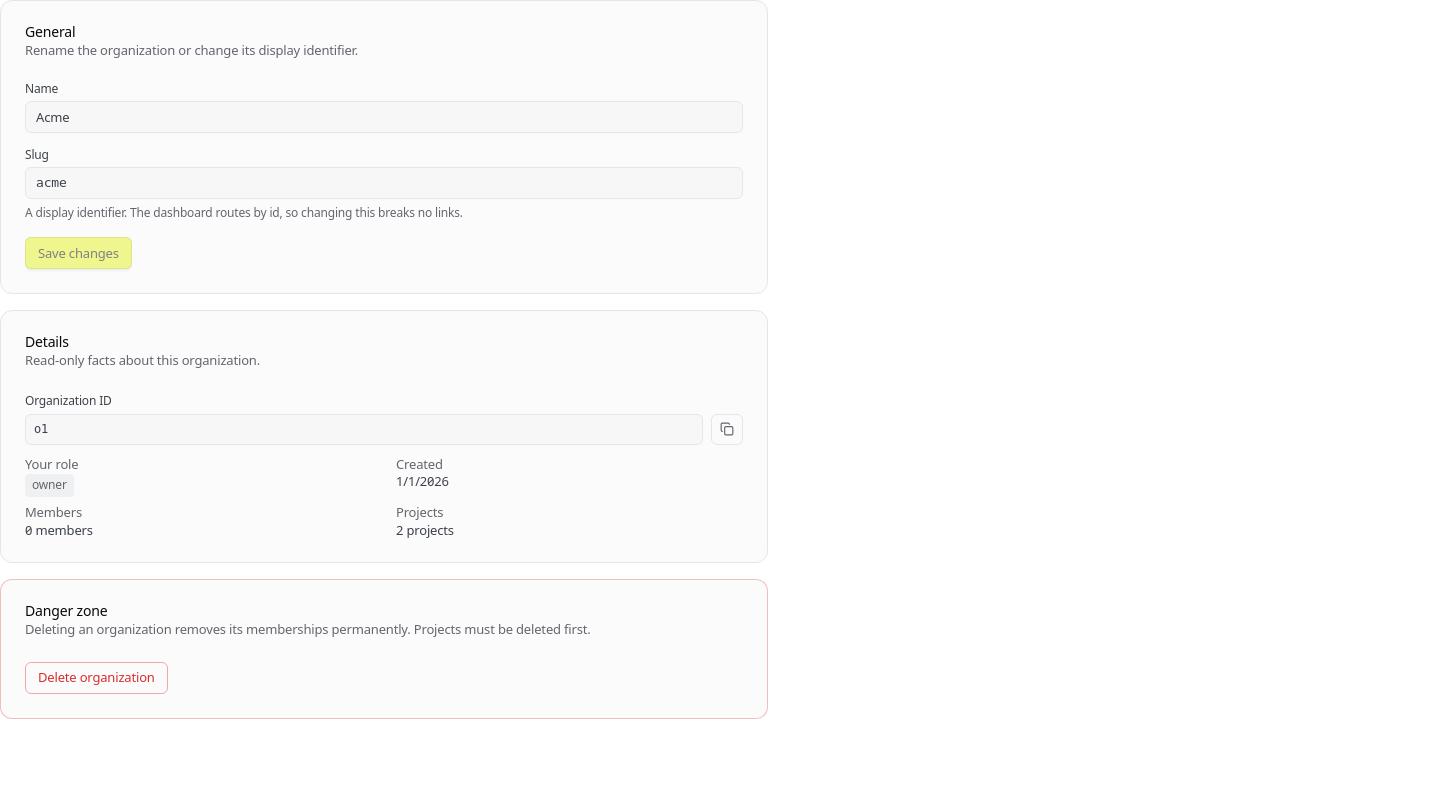
Test: OrgSettingsPanel › shows the blocking project list when delete returns 409
Click the button "Delete organization" at (96, 678), box [25, 662, 168, 694]
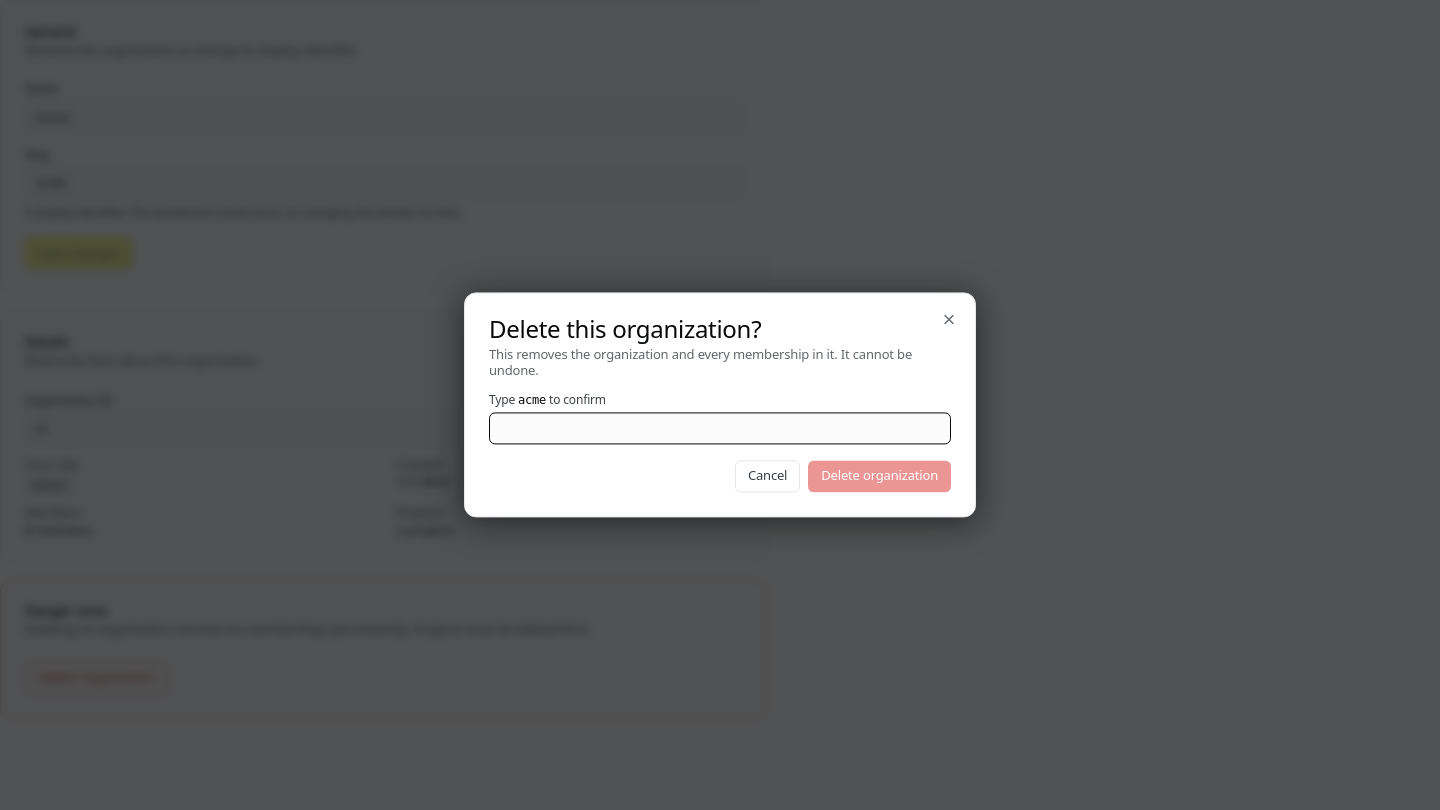
Type "acme" into the field at (720, 429), box [489, 413, 951, 445]
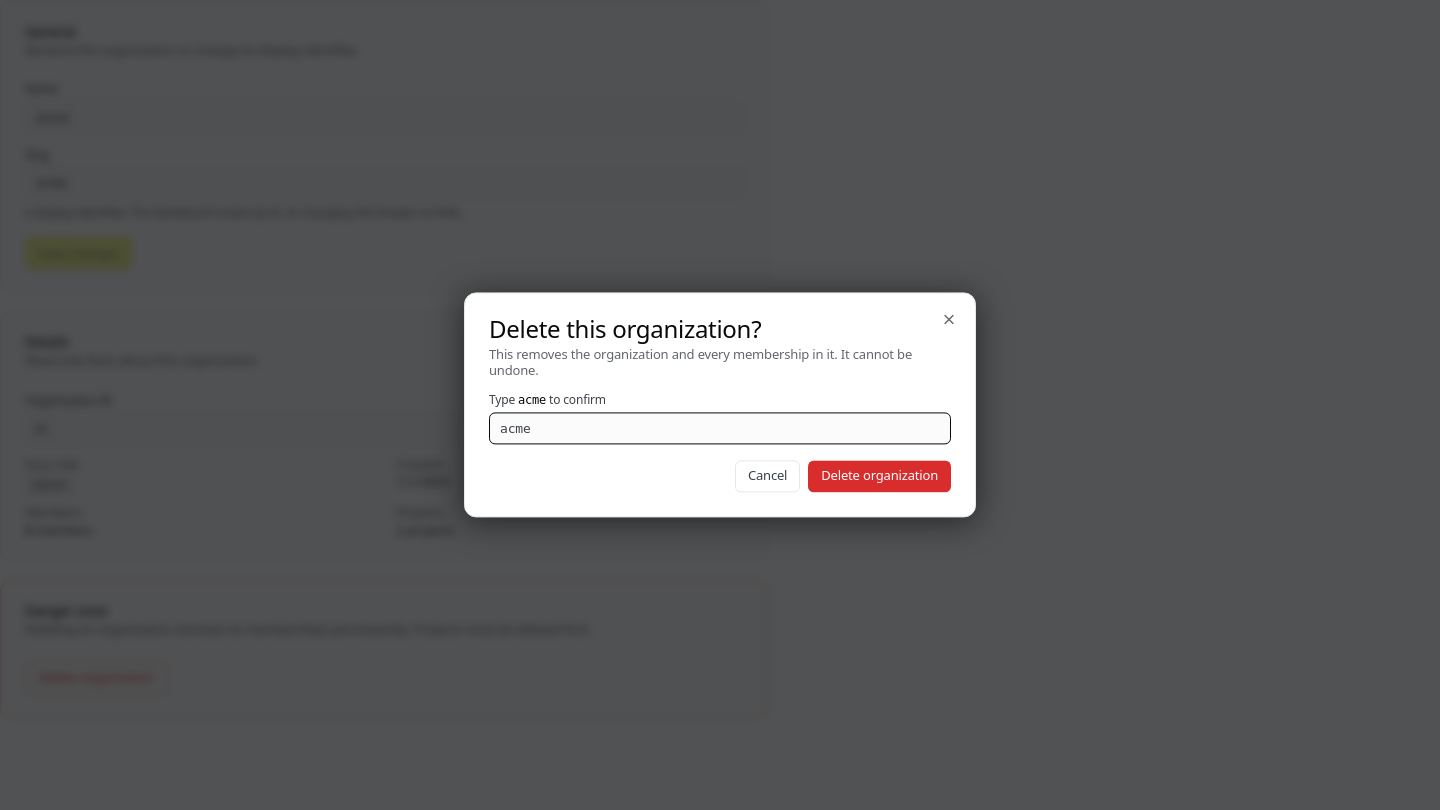
Click the button "Delete organization" at (880, 477), box [808, 461, 951, 493]
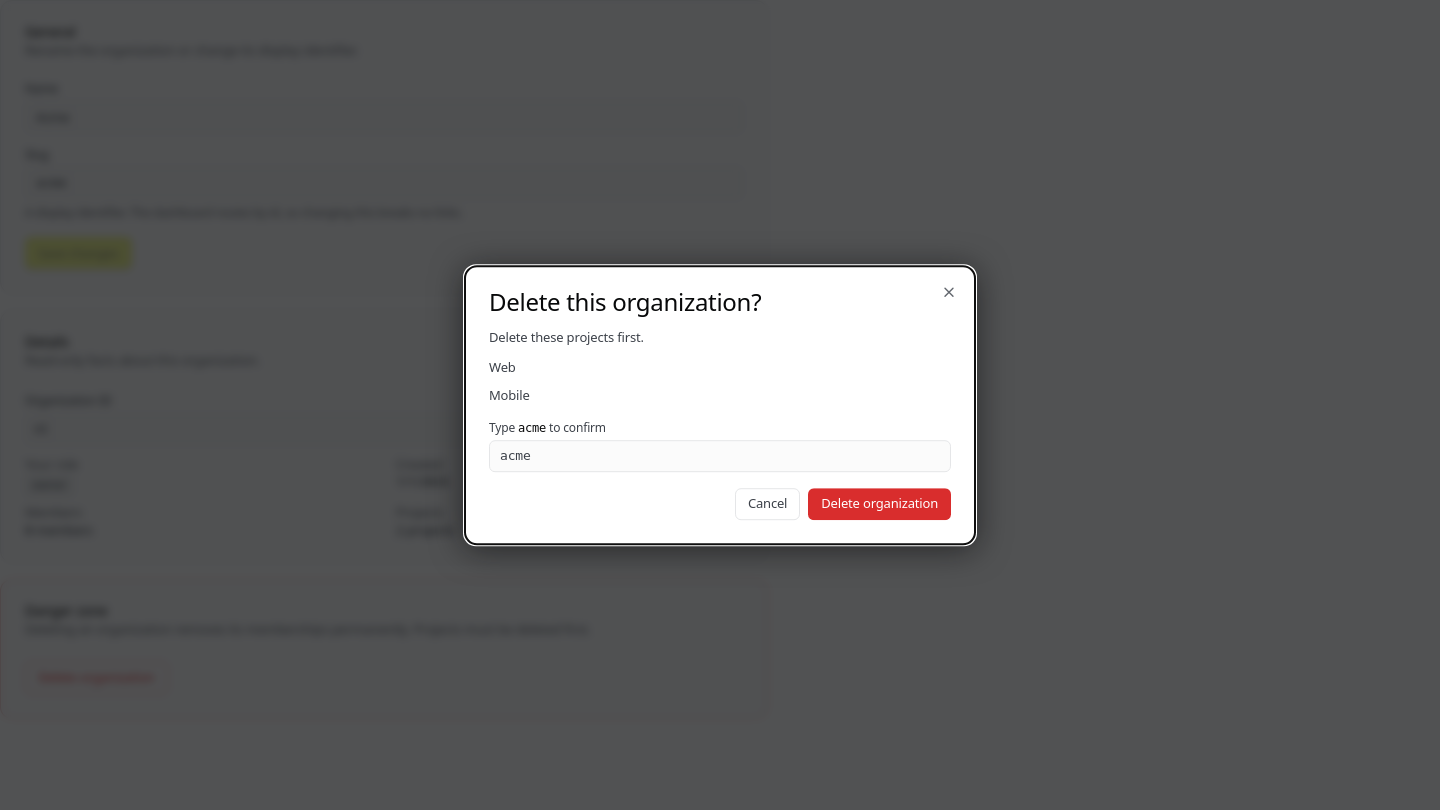
Now the text "Delete these projects first." is shown, box [489, 328, 644, 346]
